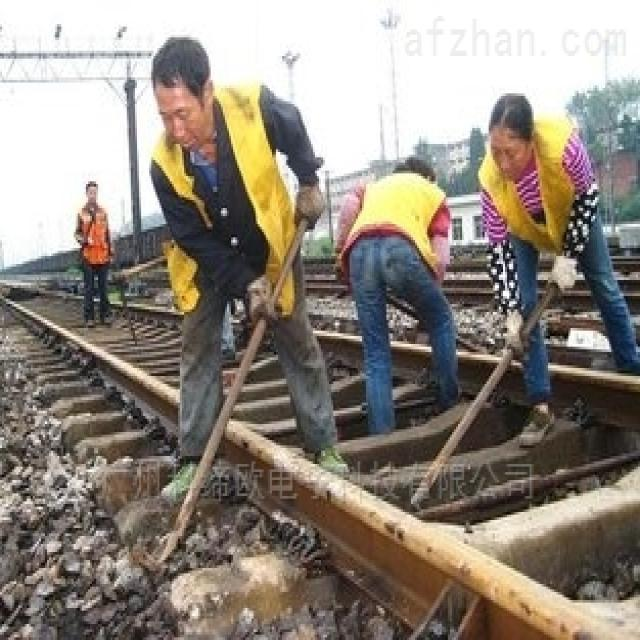people: (139, 36, 352, 522), (470, 107, 632, 446), (327, 158, 462, 430), (74, 177, 123, 326)
